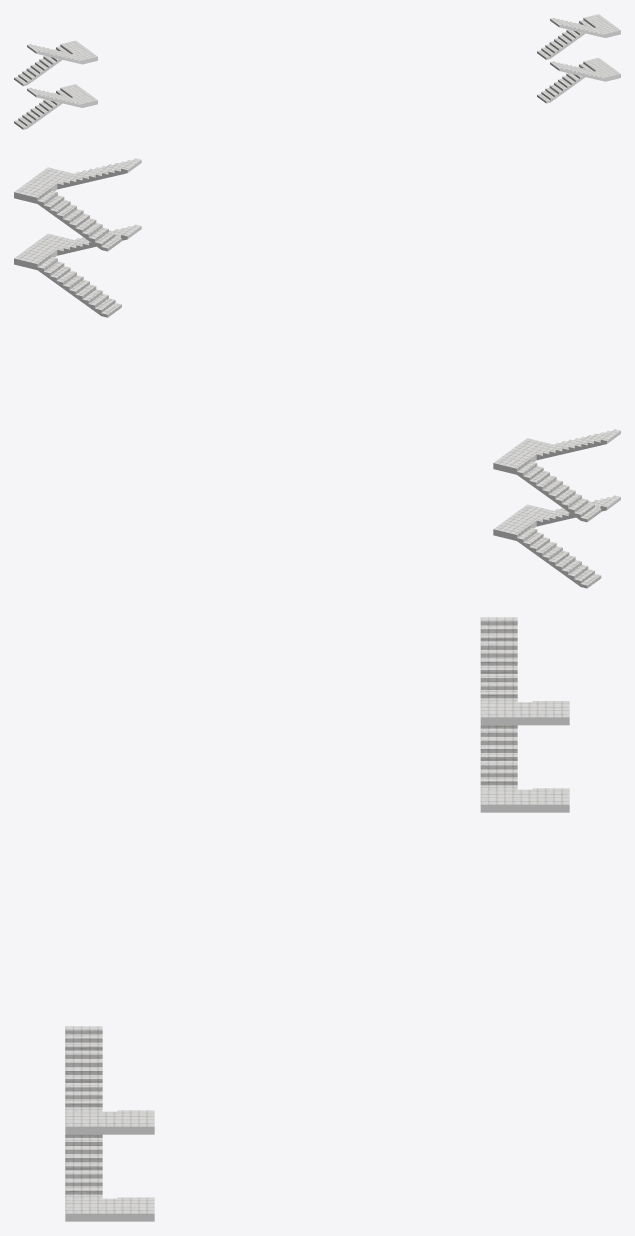
The model's file is Stair-transformed.glb.
3 views of the same model, one above another, from view 1: azimuth 30°, elevation 25°; view 2: azimuth 150°, elevation 25°; view 3: azimuth 270°, elevation 25° (orthographic). The views are drawn at different scales.
Parts seen in each view (by area): view 1: Stair; view 2: Stair; view 3: Stair.
Boxes of the visible parts, left/top/right/bottom form: Stair: left=14, top=14, right=620, bottom=129; Stair: left=14, top=158, right=620, bottom=588; Stair: left=65, top=617, right=569, bottom=1221.
Size of the model in its own units: 18.71 by 3.26 by 8.49.
2 materials, 1 textured.
